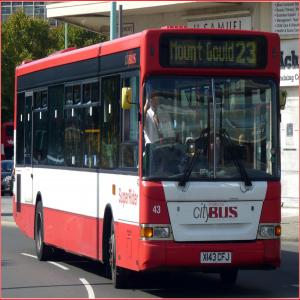Vehicle-registration-plate: (202, 252, 233, 264)
